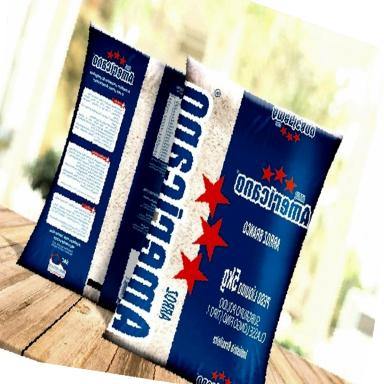rice package: (105, 58, 341, 383), (18, 26, 184, 301)
